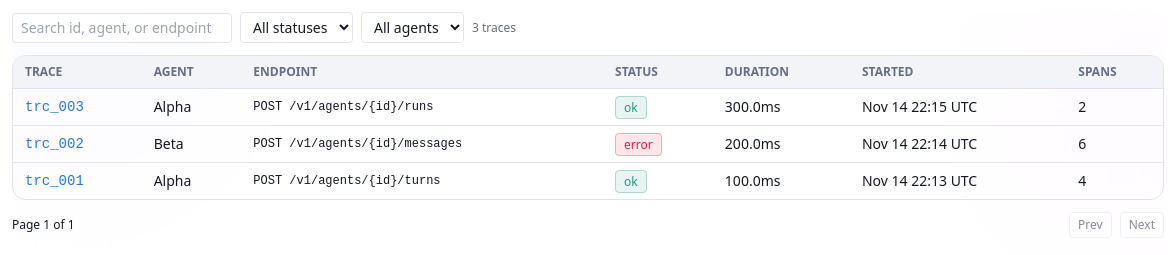
it: TraceList › filters by status
Select "Error" in the dropdown with test id "trace-filter-status". click: (296,28)
box: [240,12,353,43]
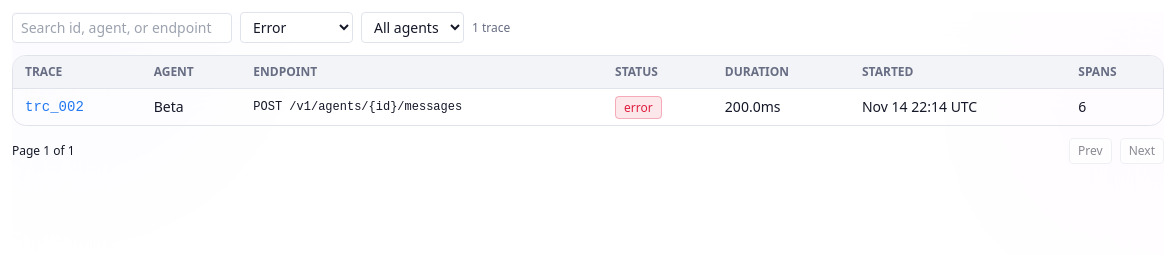
Expected: the row with test id "trace-row-trc_002" is shown, [13,88,1163,125]
Expected: the text with test id "trace-count" reads "1 trace", [472,20,510,36]
Expected: the row with test id "trace-row-trc_001" is gone
